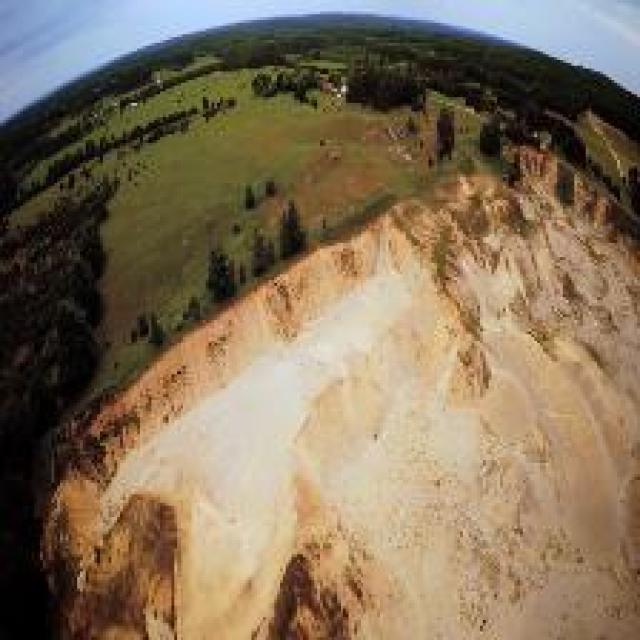other: (88, 262, 493, 528)
